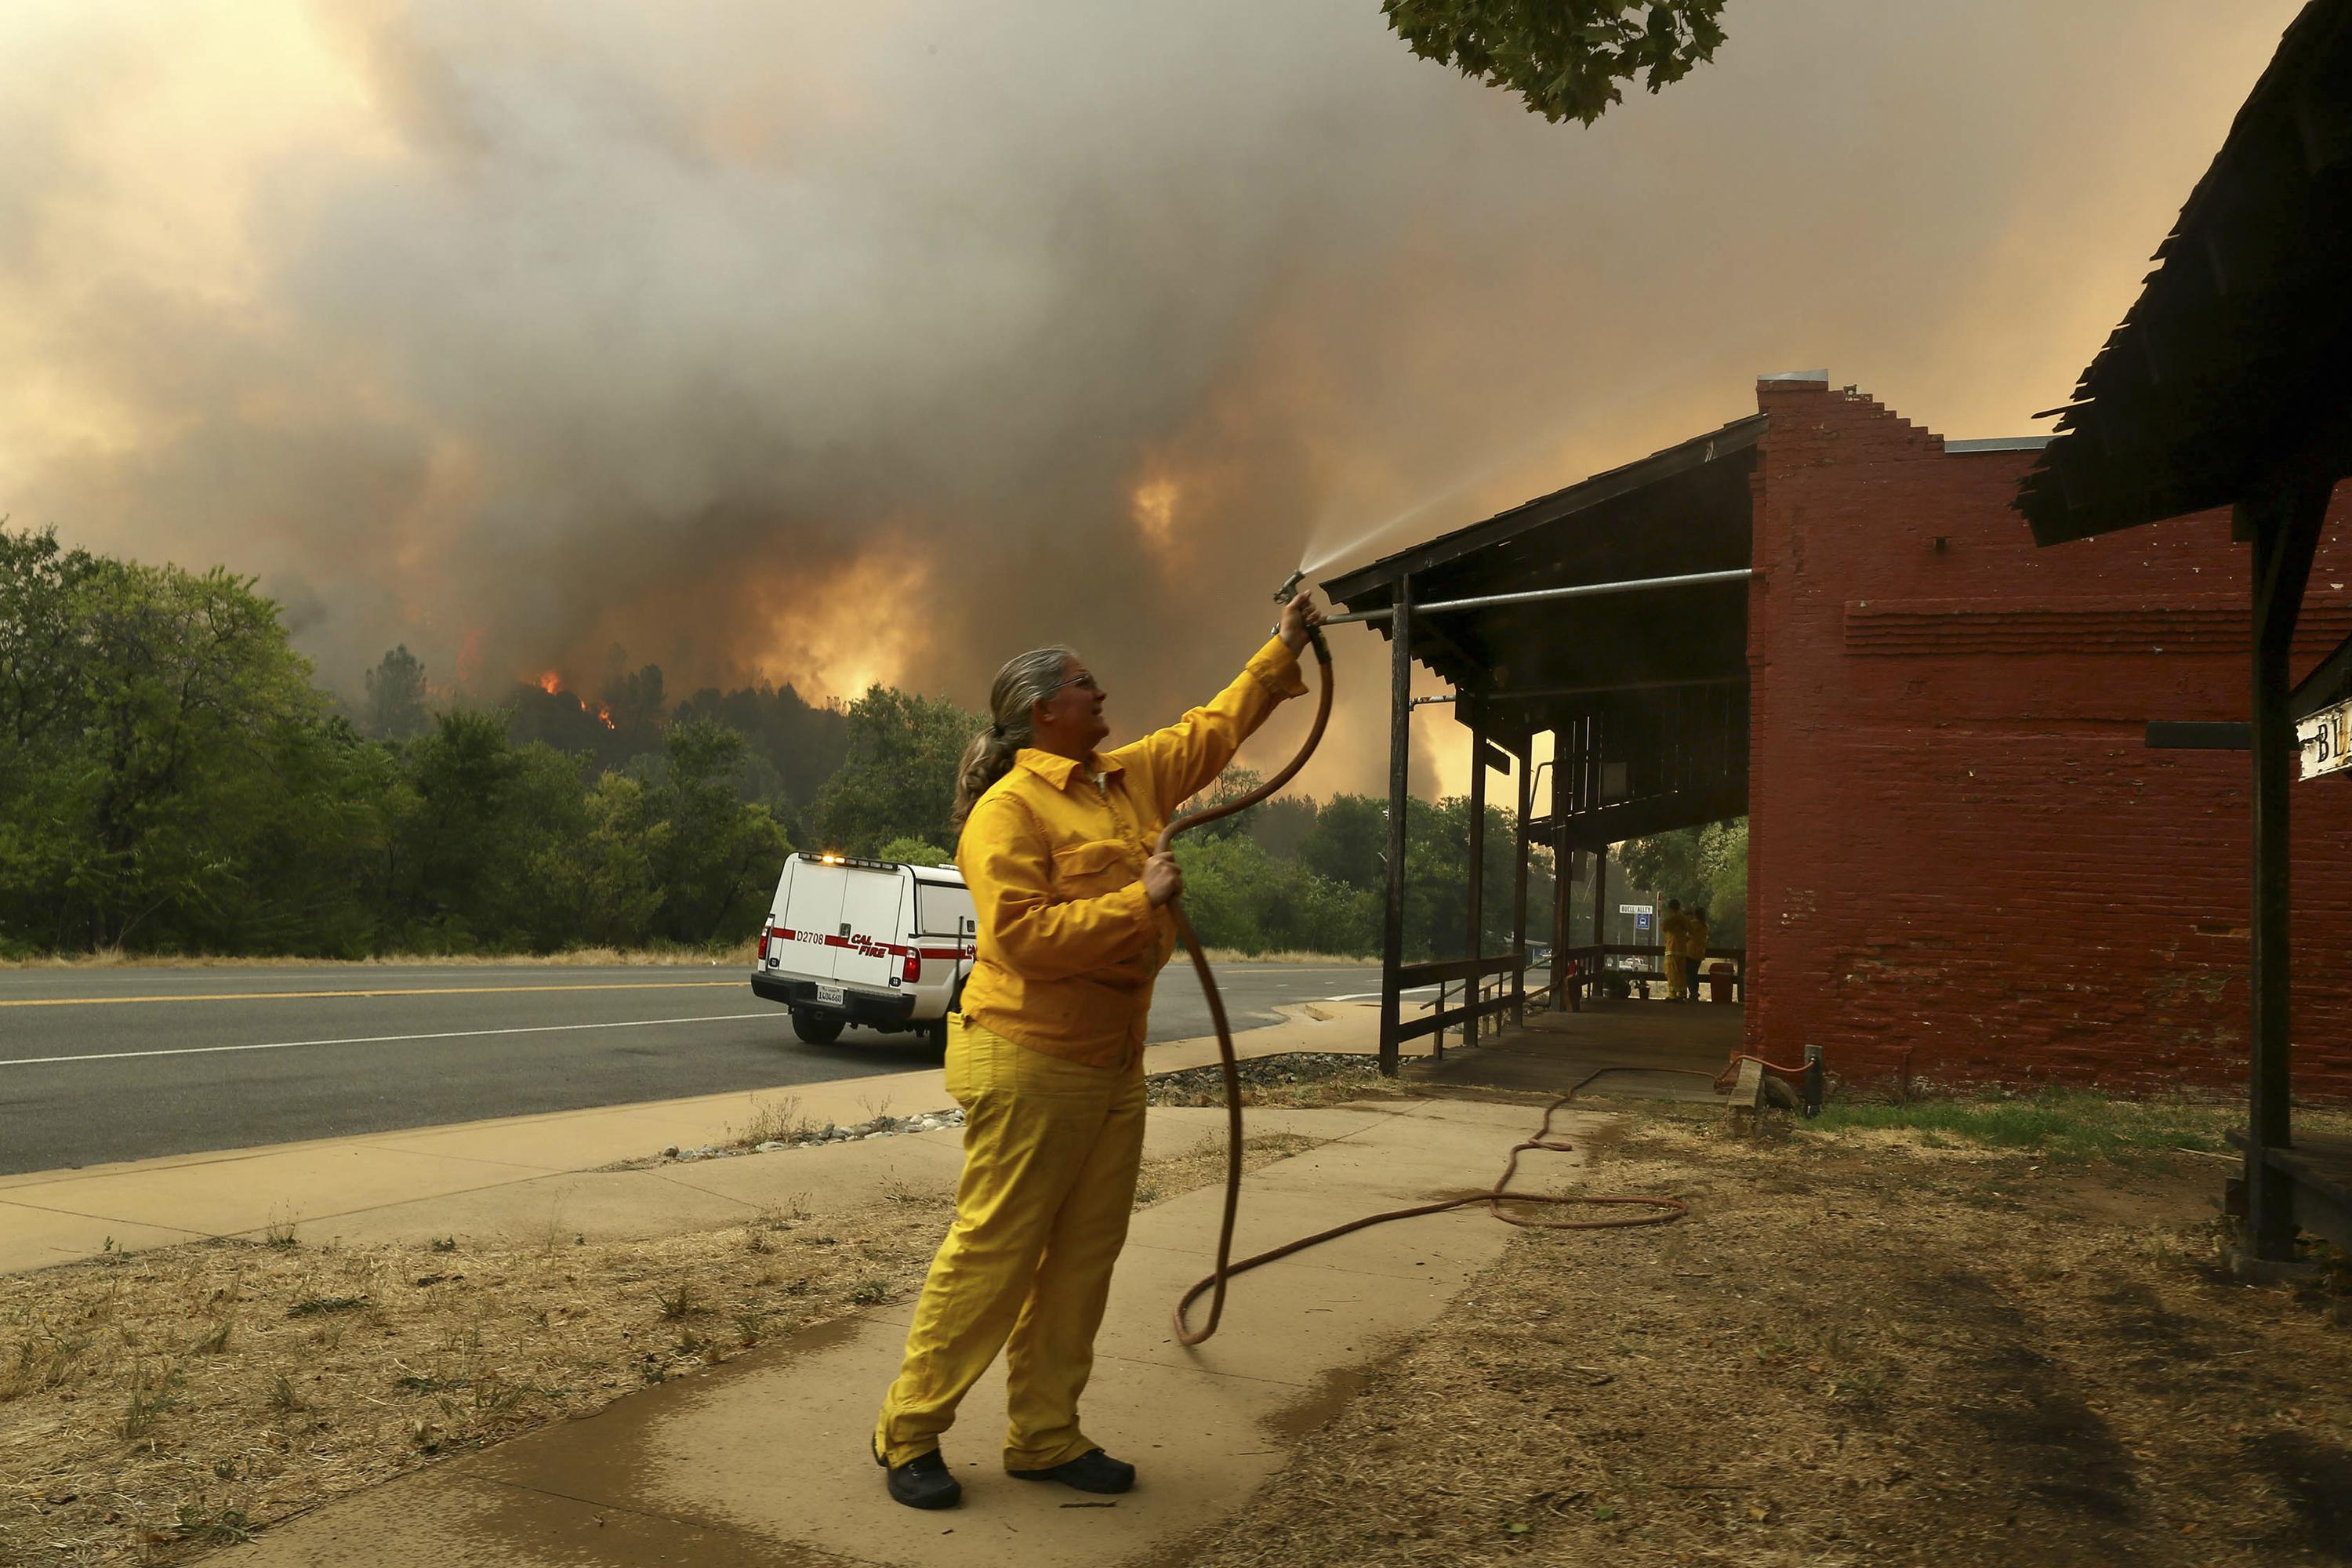Fire: (499, 626, 630, 763)
